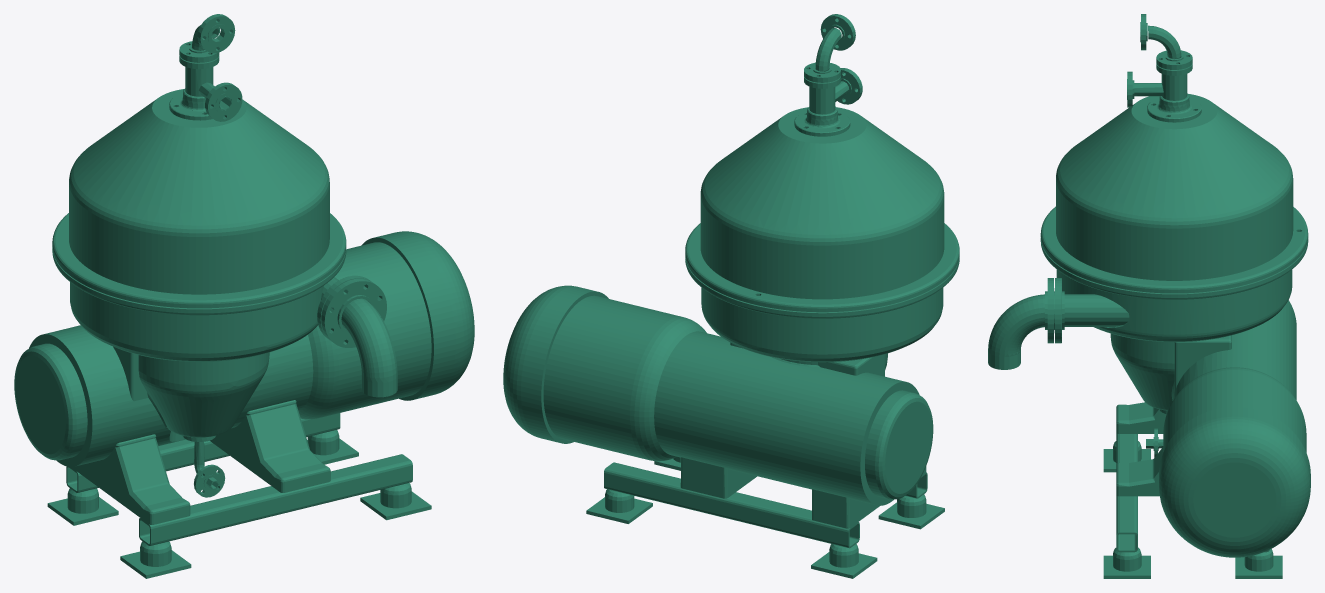
The model's file is blenderfixedAlfaLeval.fbx.
3 views of the same model, side by side, from view 1: azimuth 30°, elevation 25°; view 2: azimuth 150°, elevation 25°; view 3: azimuth 270°, elevation 25° (orthographic). The views are drawn at different scales.
Visible parts, largest first — view 1: imagetostl_mesh0; view 2: imagetostl_mesh0; view 3: imagetostl_mesh0.
Part boxes in pixels (x1,y1,x2,y2): imagetostl_mesh0: (14, 14, 474, 578); imagetostl_mesh0: (503, 14, 959, 578); imagetostl_mesh0: (988, 14, 1310, 578).
Size of the model in its own units: 149411 by 183685 by 112583.
